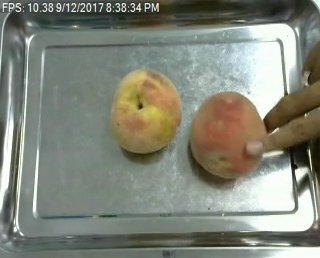Peach: (190, 90, 264, 178), (110, 68, 181, 154)
